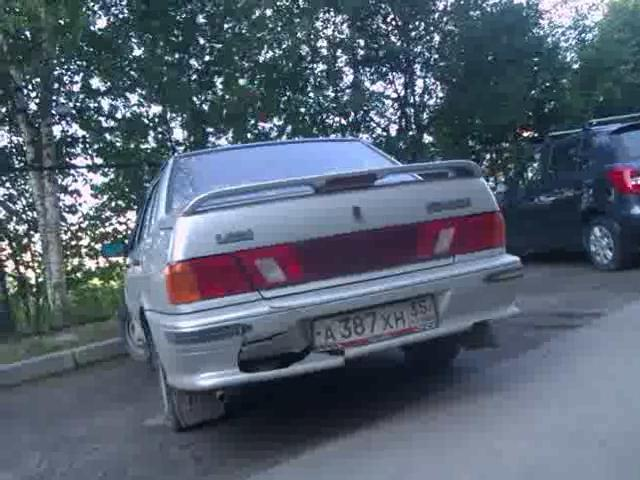license-plateSW: (309, 295, 436, 346)
